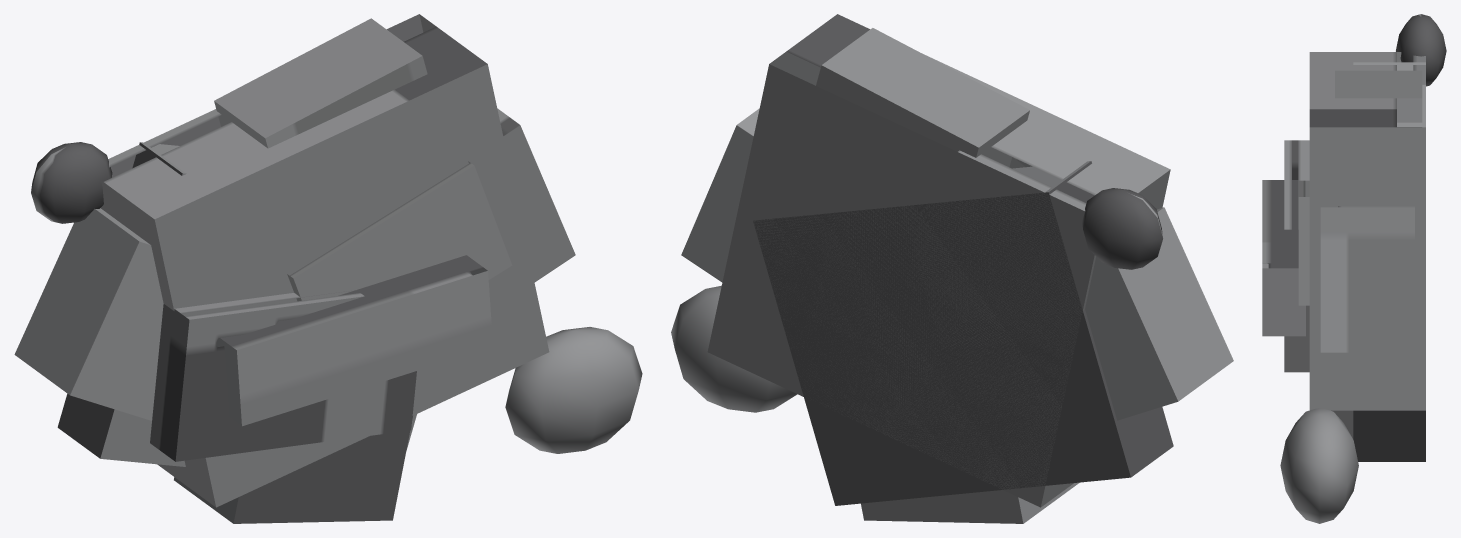
3 views of the same model, side by side, from view 1: azimuth 30°, elevation 25°; view 2: azimuth 150°, elevation 25°; view 3: azimuth 270°, elevation 25° (orthographic). The views are drawn at different scales.
Bounding box in the file's own units: 0.598 × 0.45 × 0.1977.
